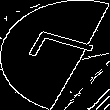L_E: (13, 31, 97, 79)
